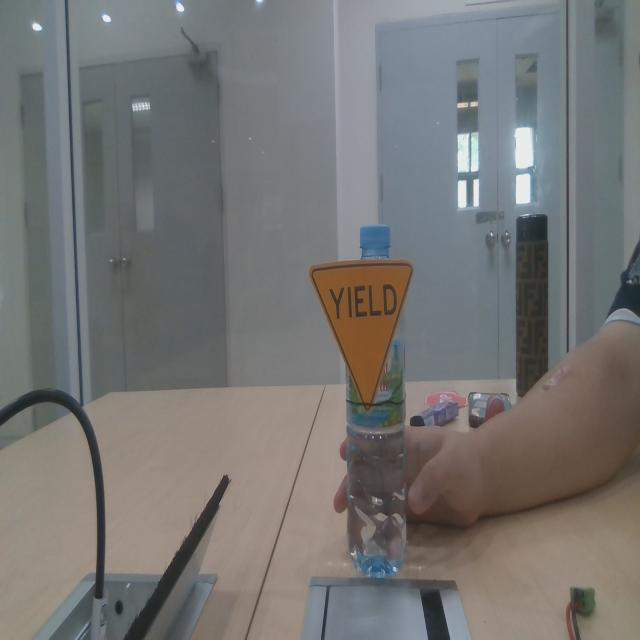Yield: (309, 256, 412, 415)
